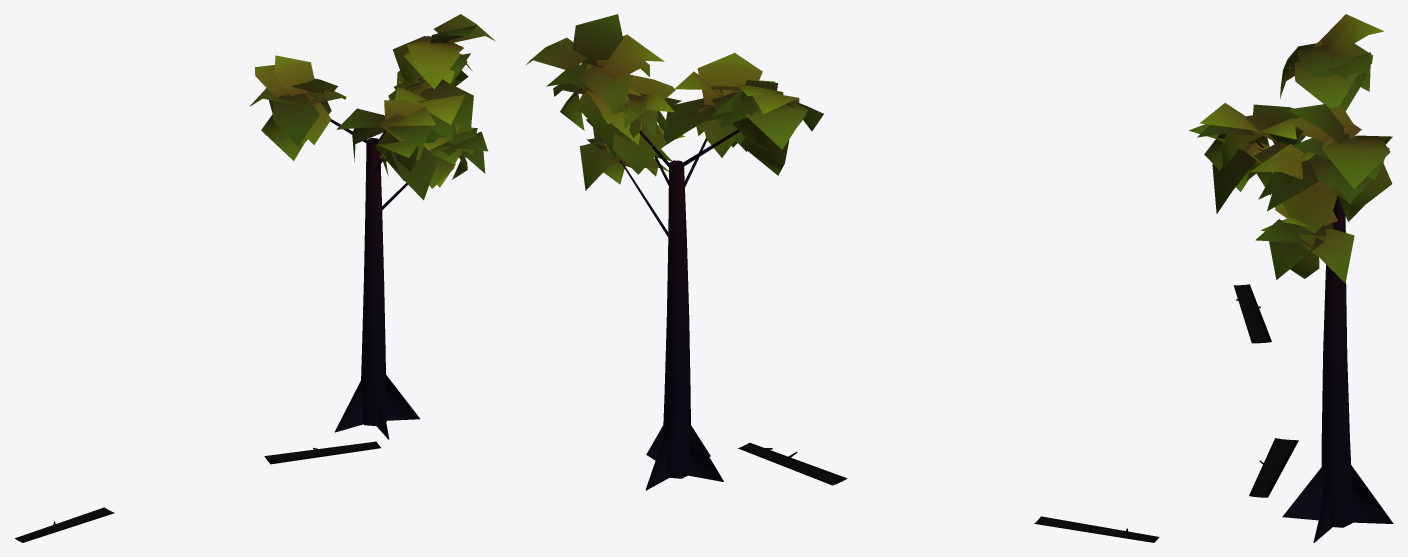
File: patch_open_far.glb
The picture shows the model from 3 angles, left to right: view 1: azimuth 30°, elevation 25°; view 2: azimuth 150°, elevation 25°; view 3: azimuth 270°, elevation 25°; orthographic projection. The views are drawn at different scales.
Visible parts, largest first — view 1: patch_open_far; view 2: patch_open_far; view 3: patch_open_far.
Part boxes in pixels (left/top/right/bottom): patch_open_far: left=15, top=14, right=494, bottom=542; patch_open_far: left=526, top=14, right=1159, bottom=542; patch_open_far: left=1189, top=14, right=1393, bottom=542.
Size of the model in its own units: 17.84 by 12.38 by 5.06.
Materials: 1 (1 with a texture image).
